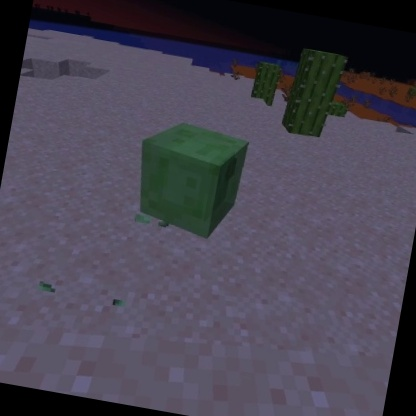slime: (125, 113, 255, 247)
